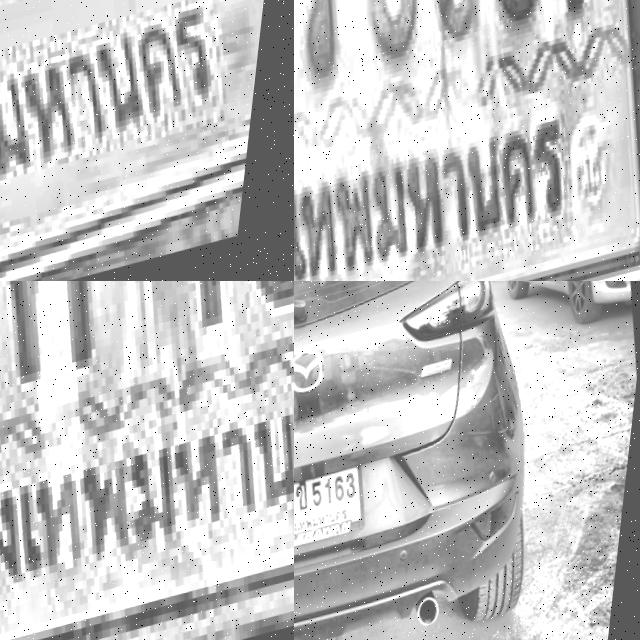license-plate: (0, 281, 294, 640), (294, 0, 640, 281), (0, 0, 294, 281), (294, 464, 383, 572)
